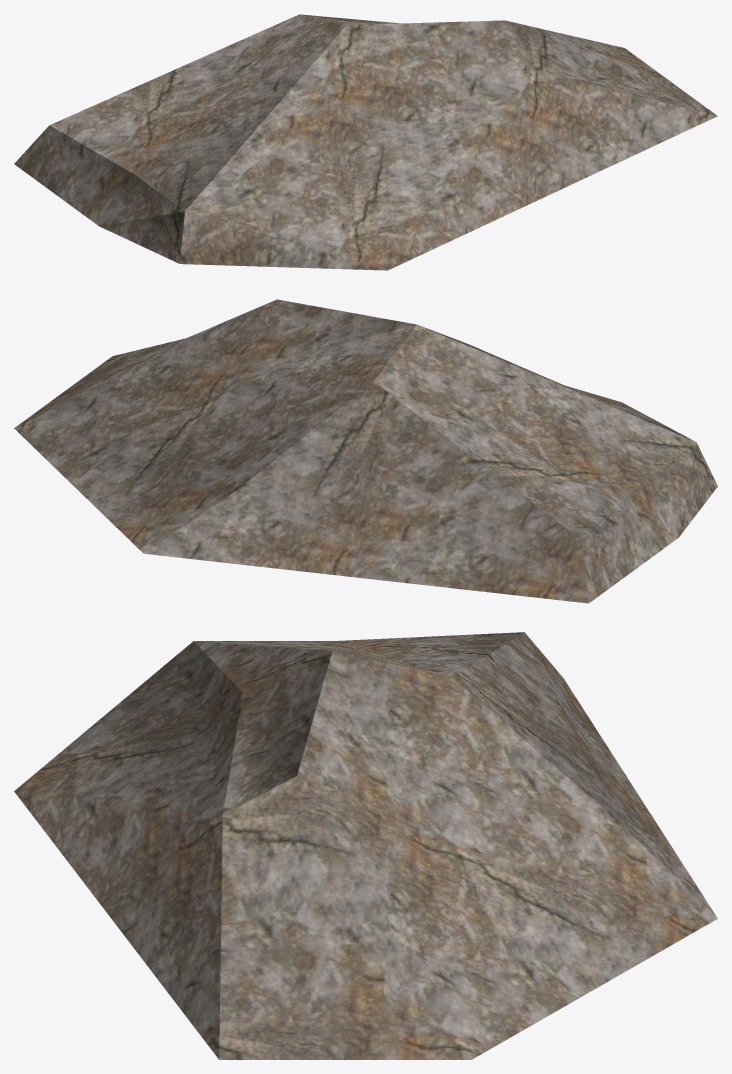
Rendered from RckS06.glb.
3 views of the same model, one above another, from view 1: azimuth 30°, elevation 25°; view 2: azimuth 150°, elevation 25°; view 3: azimuth 270°, elevation 25° (orthographic). The views are drawn at different scales.
Visible parts, largest first — view 1: _RckS06; view 2: _RckS06; view 3: _RckS06.
Part boxes in pixels (bbox=[...]): _RckS06: bbox=[14, 14, 717, 270]; _RckS06: bbox=[14, 299, 717, 603]; _RckS06: bbox=[14, 632, 717, 1059].
Size of the model in its own units: 12.99 by 3.03 by 10.12.
Materials: 1 (1 with a texture image).
